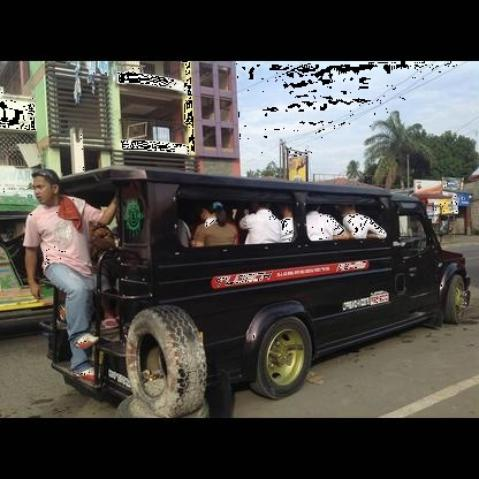jeepney: (39, 147, 479, 408)
